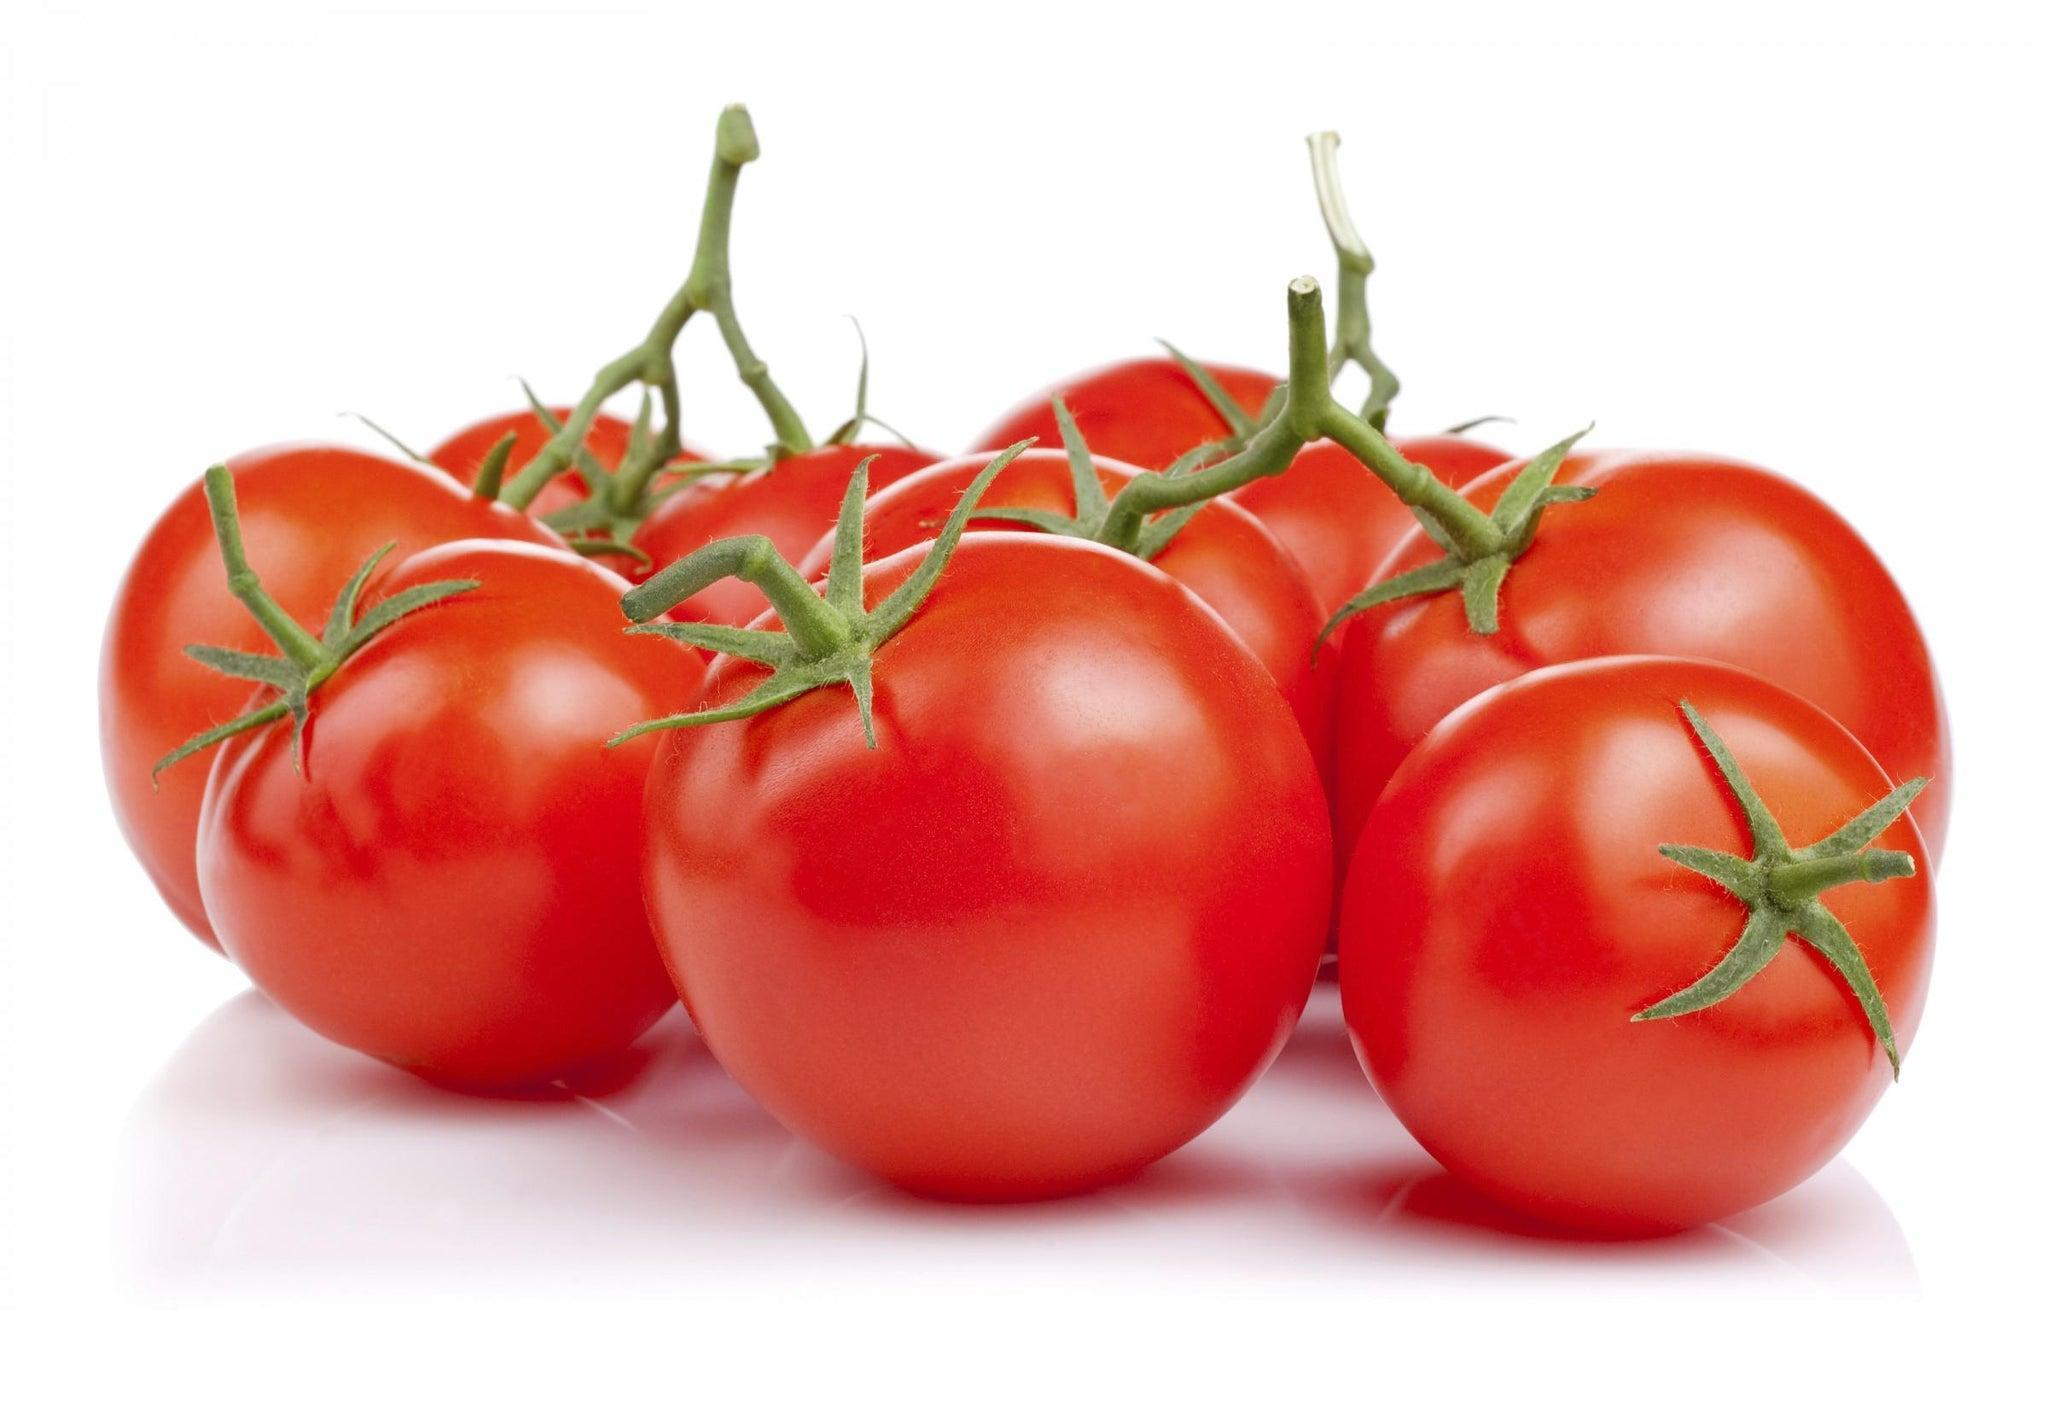healthy-tomato: (1331, 442, 1955, 1249), (643, 537, 1341, 1214), (1332, 607, 1948, 1249), (168, 509, 708, 1070)
